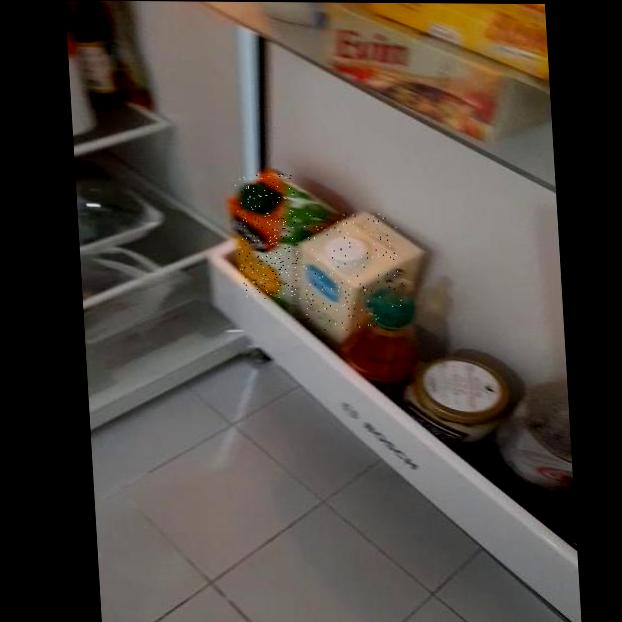juice: (234, 174, 301, 299)
milk: (299, 212, 405, 331)
